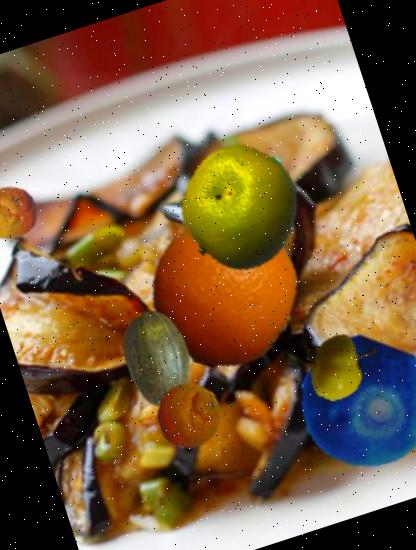Apple: (296, 324, 383, 411)
Huckleberry: (282, 319, 416, 488)
Mandarine: (147, 374, 231, 458), (0, 176, 45, 247)
Melon: (96, 297, 219, 420)
Orange: (129, 198, 318, 386)
Pomelo: (164, 129, 318, 283)
